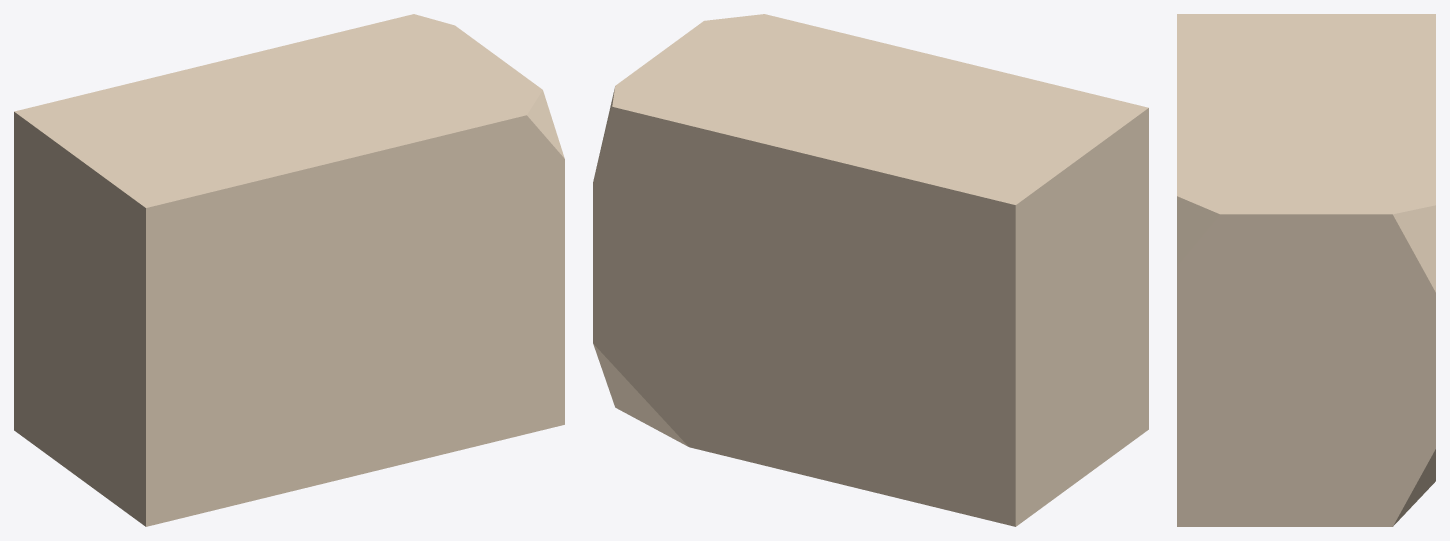
3 renders of one model, left to right at view 1: azimuth 30°, elevation 25°; view 2: azimuth 150°, elevation 25°; view 3: azimuth 270°, elevation 25°, orthographic. The views are drawn at different scales.
Visible parts, largest first — view 1: object2; view 2: object2; view 3: object2.
Boxes of the visible parts, x1,y1,x2,y2 form: object2: [14, 14, 564, 526]; object2: [593, 14, 1148, 526]; object2: [1177, 14, 1435, 526].
Size of the model in its own units: 0.275 by 0.2 by 0.15.
